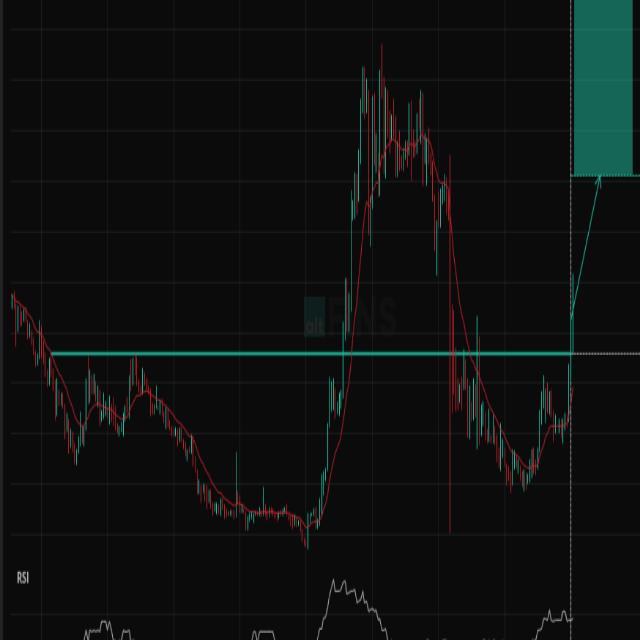Resistance-breakout: (76, 58, 406, 536)
